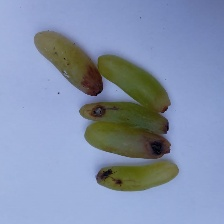grapes: (46, 31, 197, 181)
